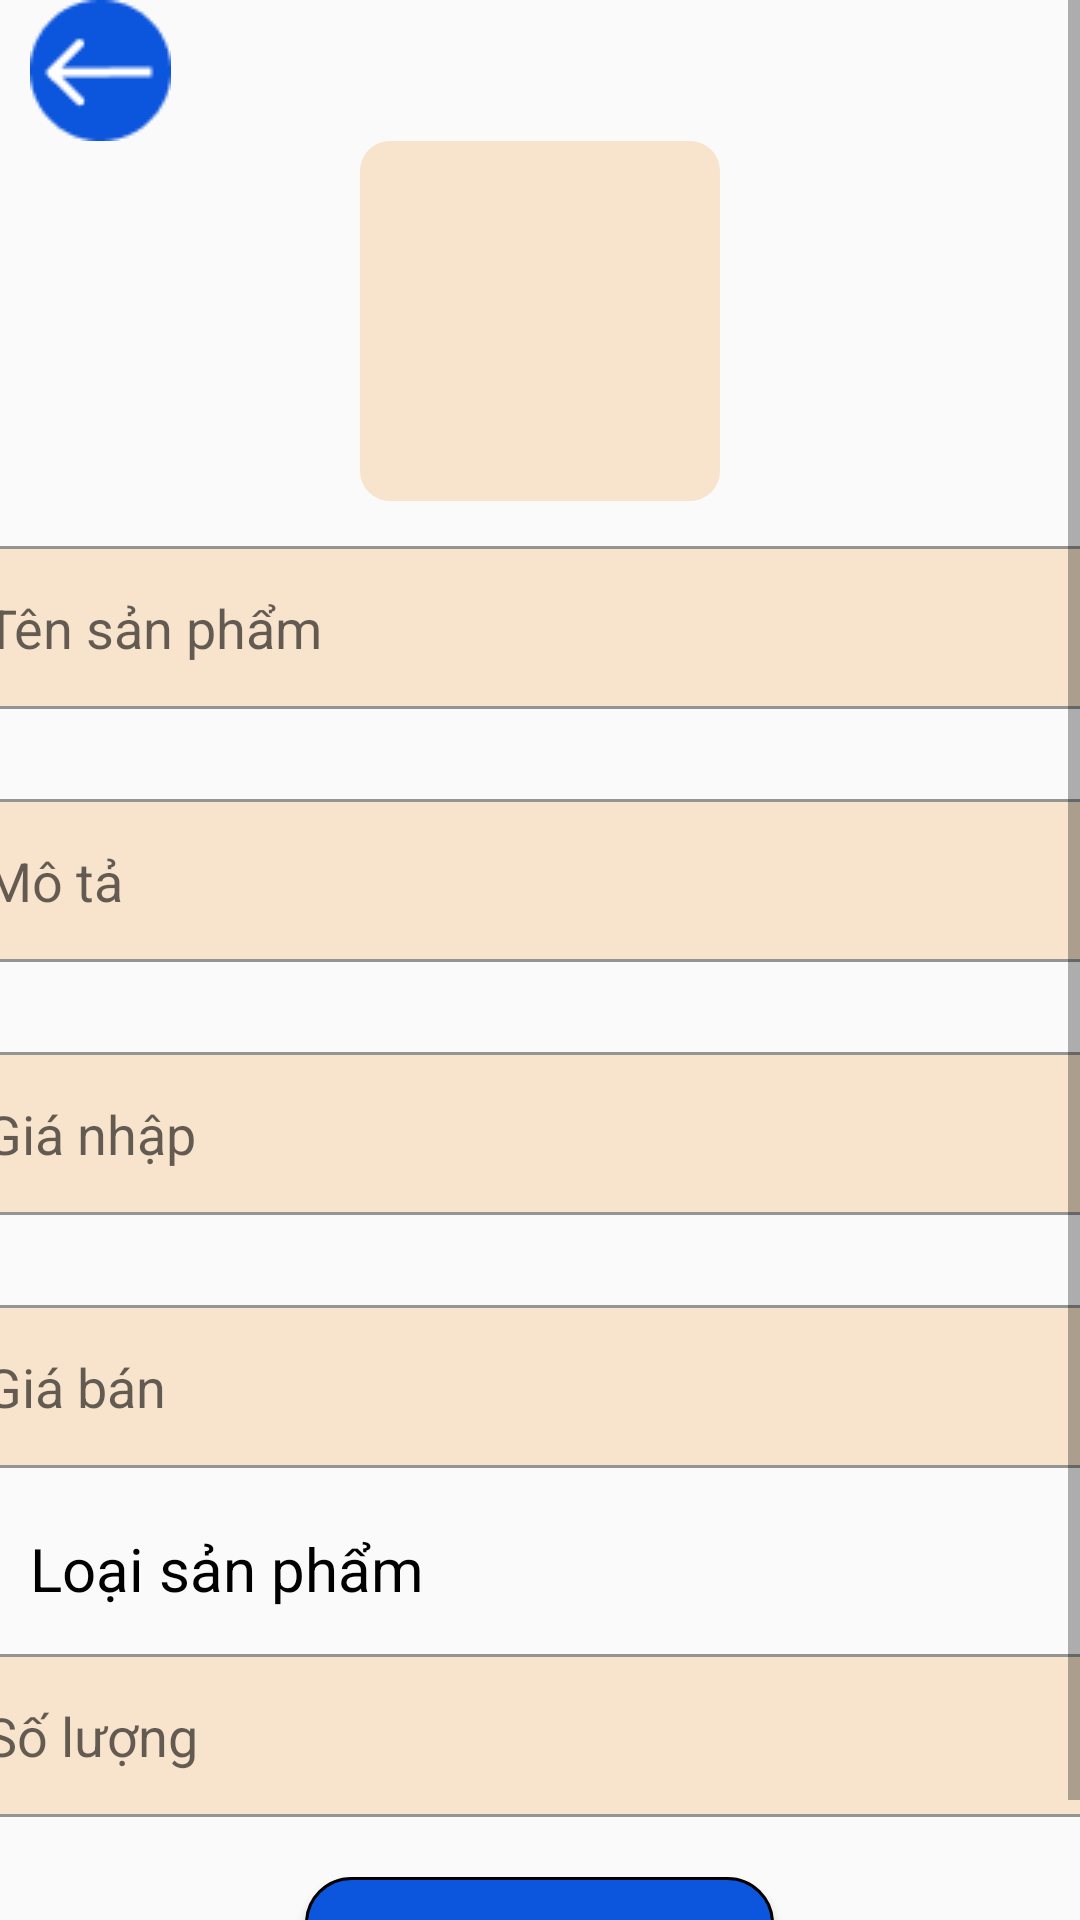

Icon bounding boxes for this 1080x1920 phone screenshot, format [left=x1, top=y1, right=x2, bottom=y2]:
back: [left=30, top=0, right=171, bottom=141]
